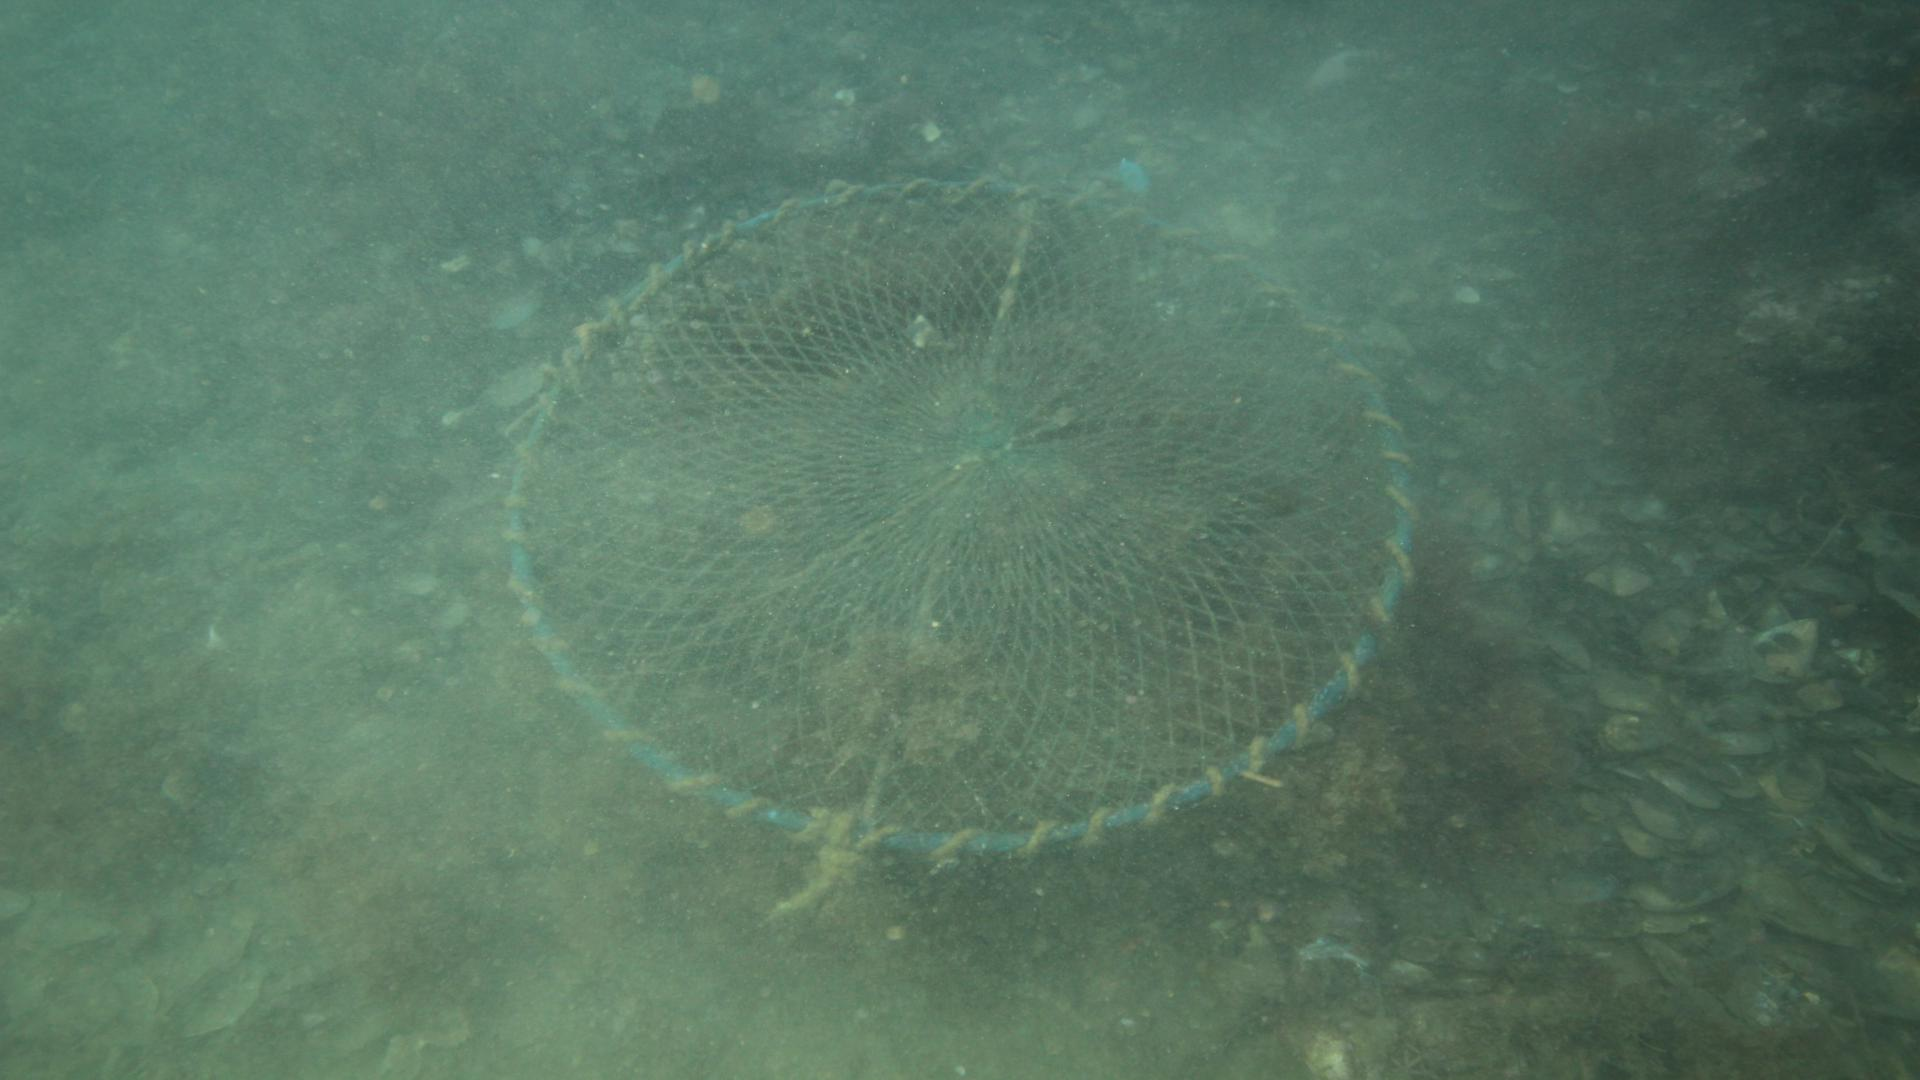circular fish trap: (500, 174, 1414, 857)
